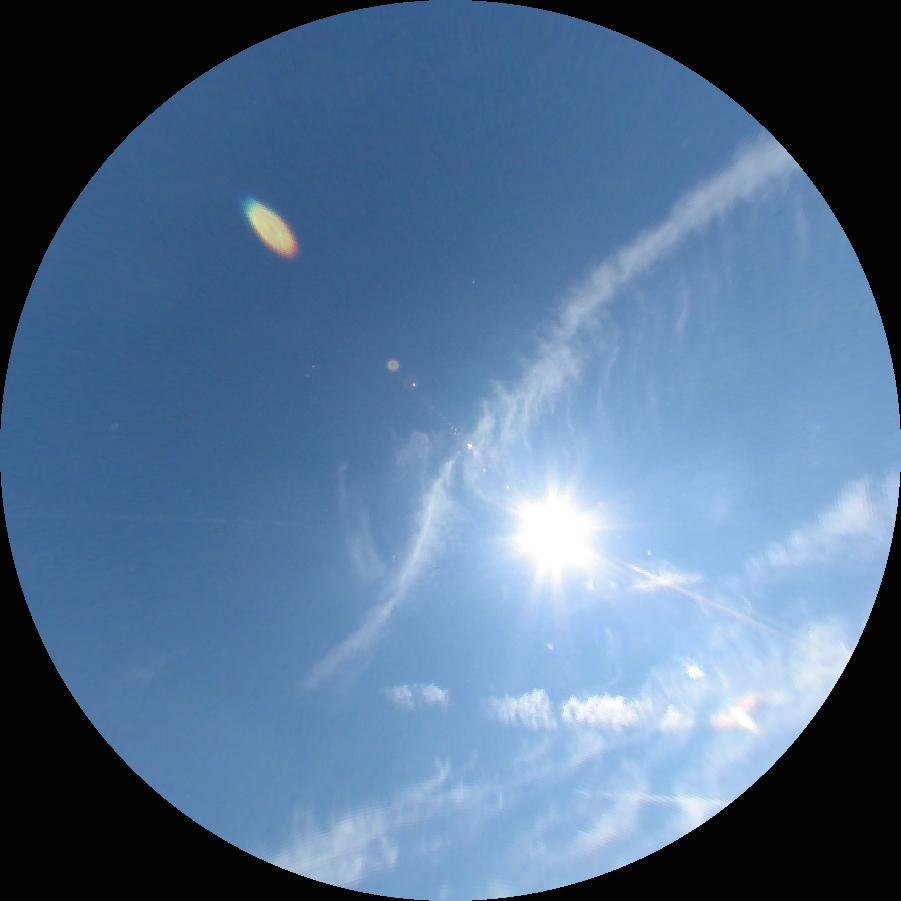contrail old: (574, 789, 726, 806)
contrail veryold: (301, 126, 800, 698), (336, 170, 845, 591), (267, 755, 479, 890), (387, 685, 687, 730)
parasite: (622, 562, 792, 640)
sun: (515, 492, 592, 570)
